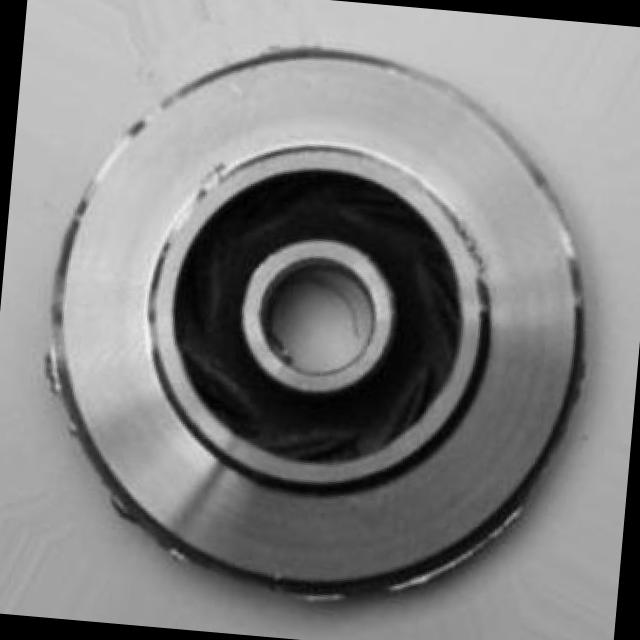Defect: (416, 520, 536, 582)
